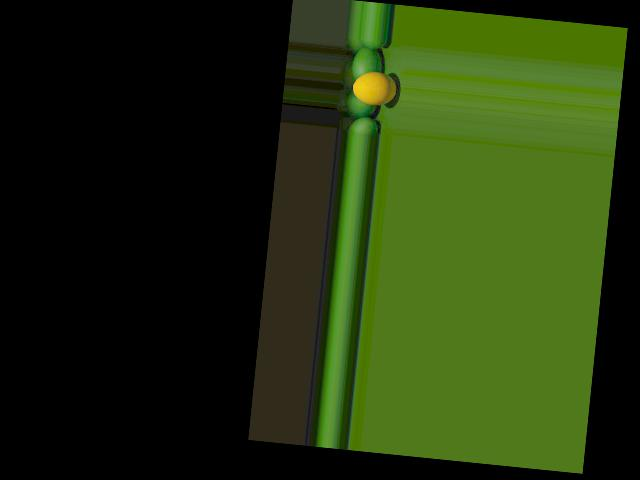egg: (352, 69, 398, 107)
